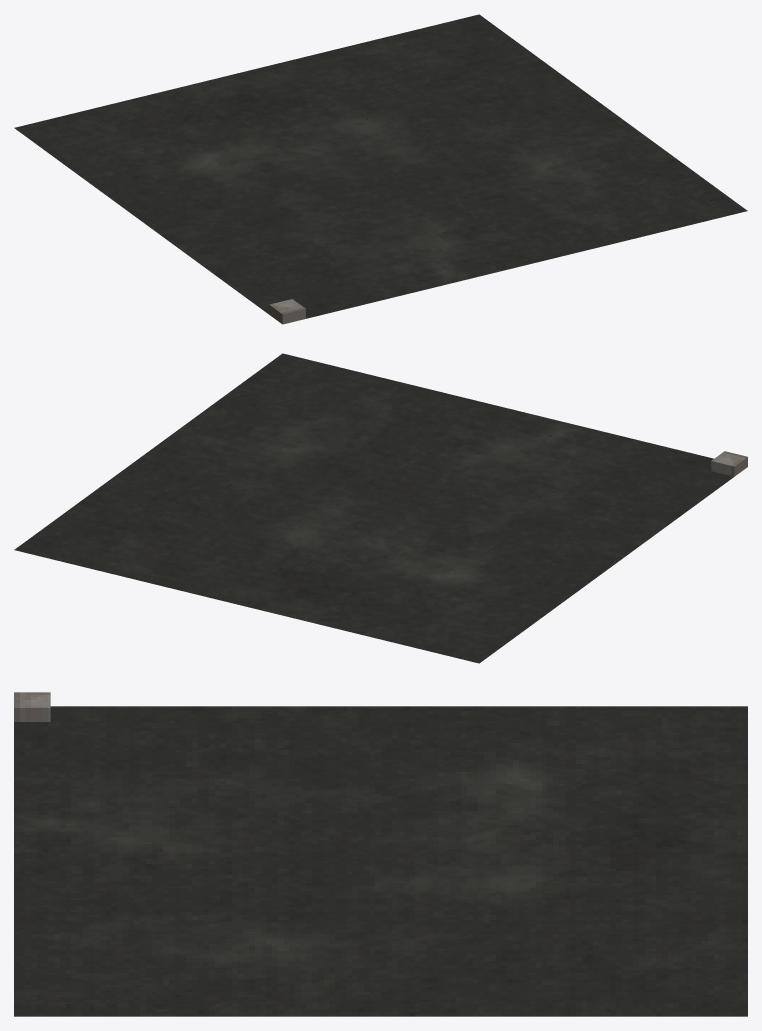
The model's file is Road Small Pavement.glb.
3 renders of one model, top to bottom at view 1: azimuth 30°, elevation 25°; view 2: azimuth 150°, elevation 25°; view 3: azimuth 270°, elevation 25°, orthographic. The views are drawn at different scales.
Visible parts, largest first — view 1: RoadSmallPavement; view 2: RoadSmallPavement; view 3: RoadSmallPavement.
Boxes of the visible parts, bbox=[...] form: RoadSmallPavement: bbox=[14, 14, 747, 324]; RoadSmallPavement: bbox=[14, 353, 747, 663]; RoadSmallPavement: bbox=[14, 692, 747, 1016].
Bounding box in the file's own units: 4.8 × 0.1 × 4.8.
2 materials, 2 textured.
